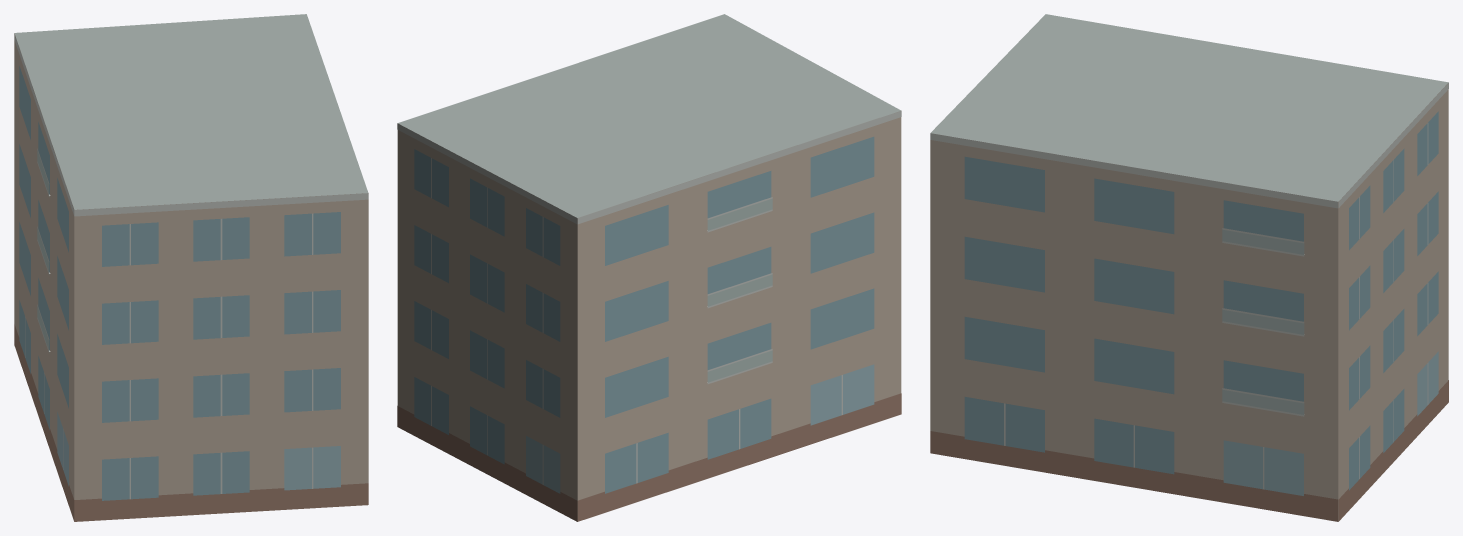
File: survey-upis-32524511.glb
3 views of the same model, side by side, from view 1: azimuth 30°, elevation 25°; view 2: azimuth 150°, elevation 25°; view 3: azimuth 270°, elevation 25° (orthographic). The views are drawn at different scales.
Parts seen in each view (by area): view 1: survey-upis-32524511.tmp; view 2: survey-upis-32524511.tmp; view 3: survey-upis-32524511.tmp.
Boxes of the visible parts, x1,y1,x2,y2 form: survey-upis-32524511.tmp: (14,14,368,521); survey-upis-32524511.tmp: (397,14,901,521); survey-upis-32524511.tmp: (930,14,1448,521).
Size of the model in its own units: 14.6 by 11.6 by 17.04.
